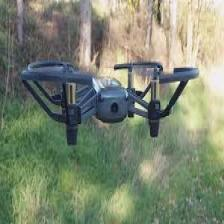drone: (27, 61, 190, 136)
